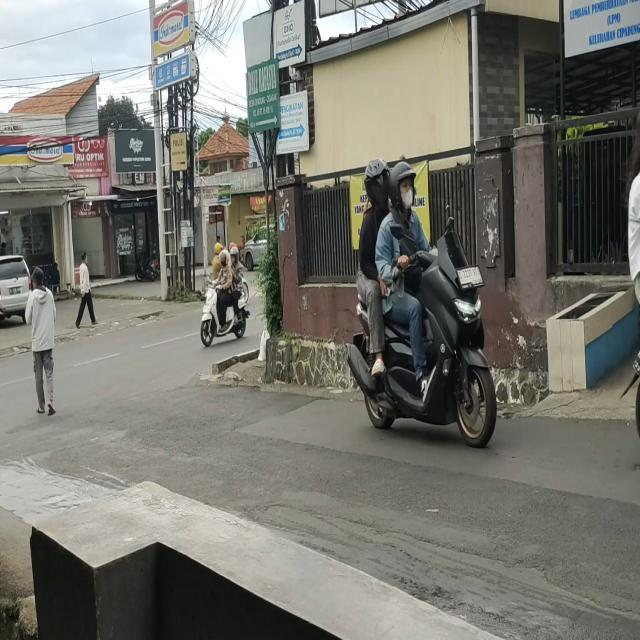helmet: (389, 165, 416, 215), (366, 160, 390, 201), (231, 248, 240, 266), (220, 252, 230, 266)
